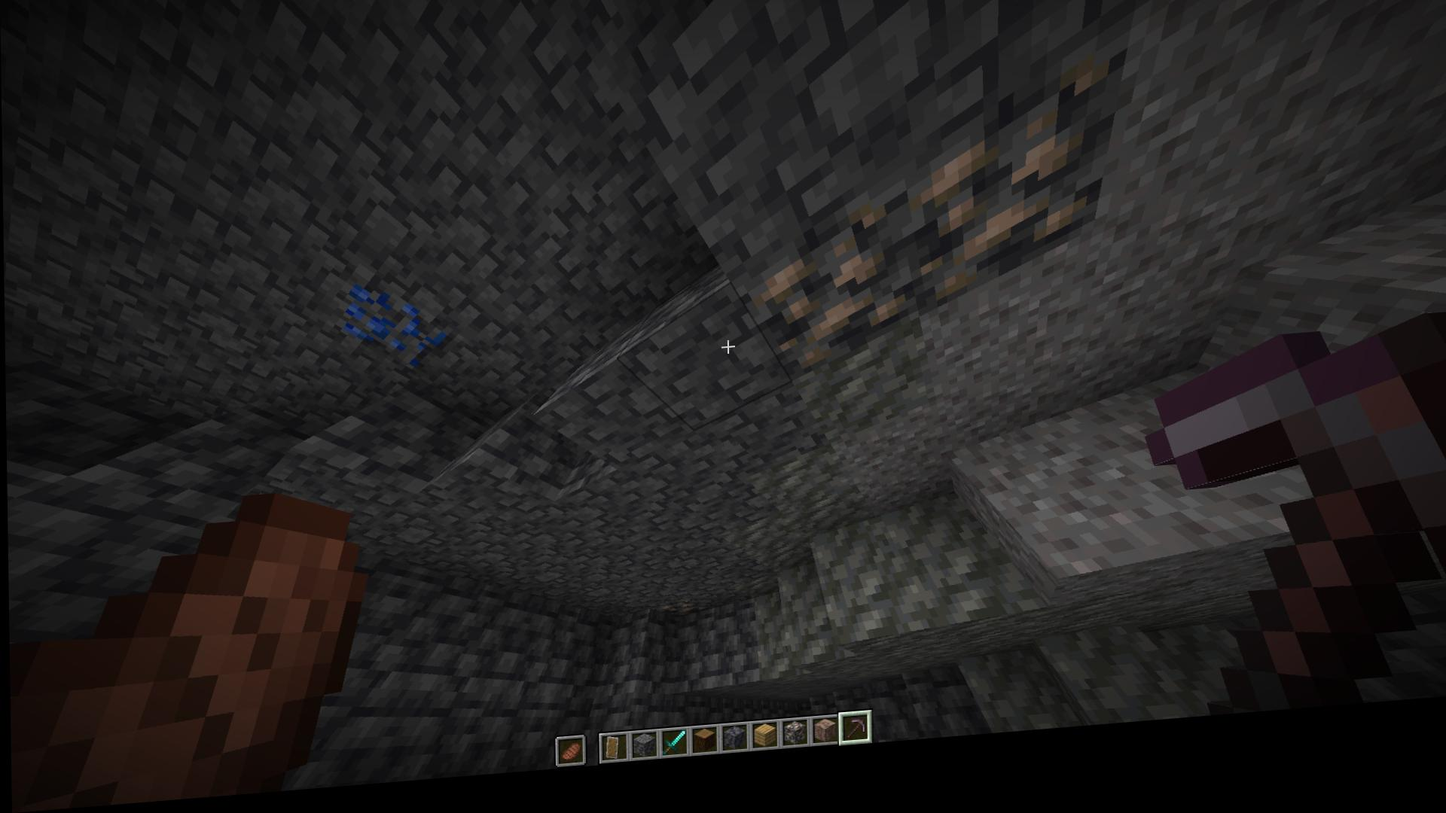iron ore: (931, 62, 1121, 317), (746, 196, 939, 397), (649, 602, 699, 634)
